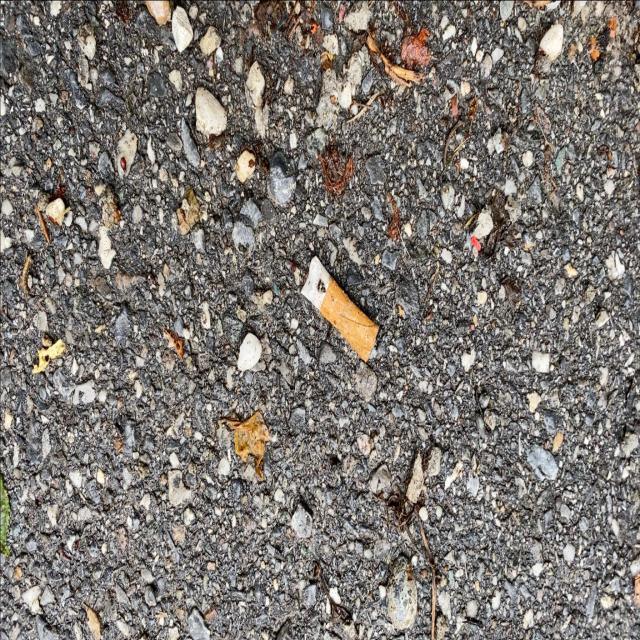other waste: (300, 254, 380, 363)
